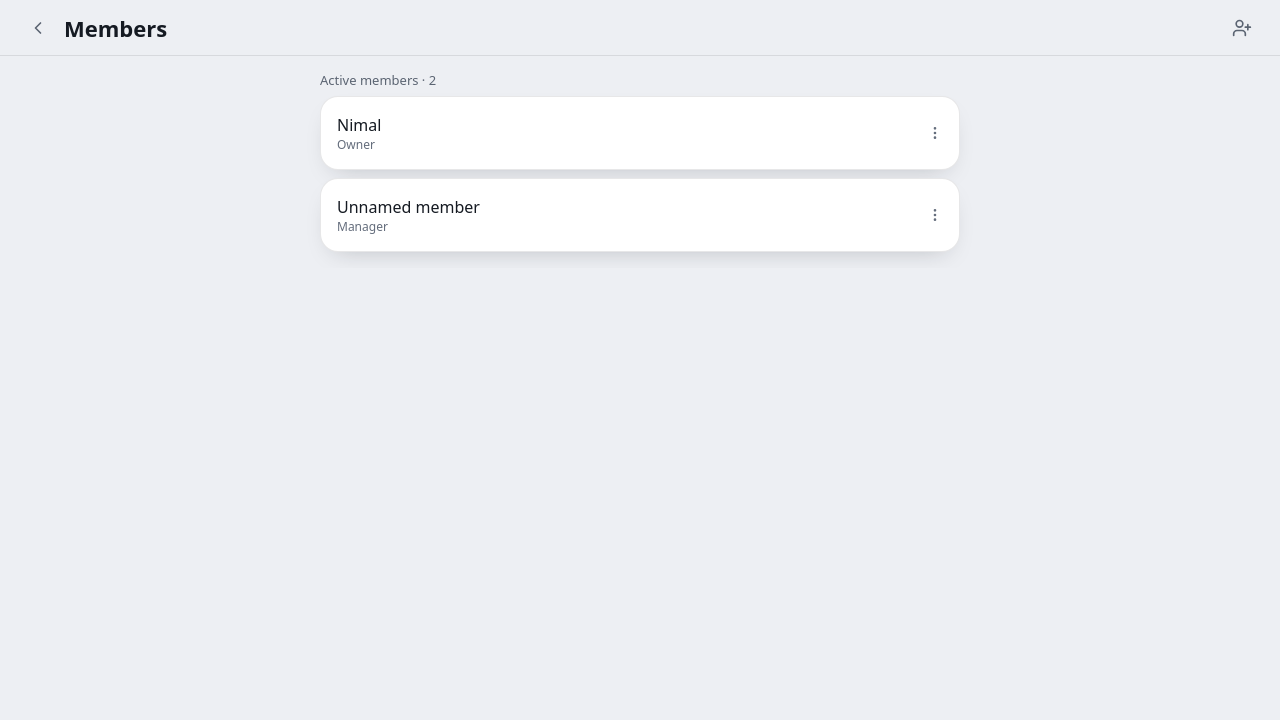
Scenario: GAP-115/GAP-1: all three roles appear in both the invite and change-role pickers, now that per-vehicle scoping (Wave 3) has lifted the manager-exclusion stopgap
Step 1. Click the button named "Invite member" → [1242, 28], box [1220,6,1264,50]
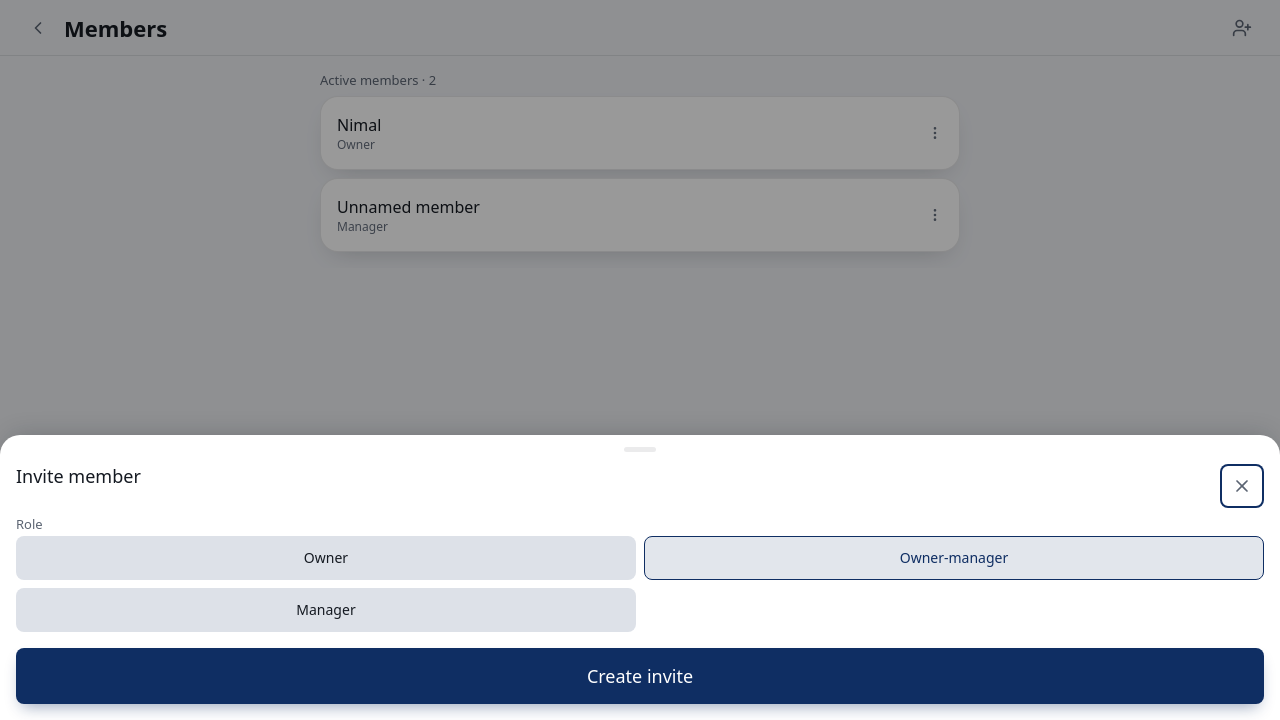
Expected: the button "Owner" is shown, [16,536,636,580]
Expected: the button "Owner-manager" is shown, [644,536,1264,580]
Expected: the button "Manager" is shown, [16,588,636,632]
Step 2. Click the button named "Close" → [1242, 486], box [1220,464,1264,508]
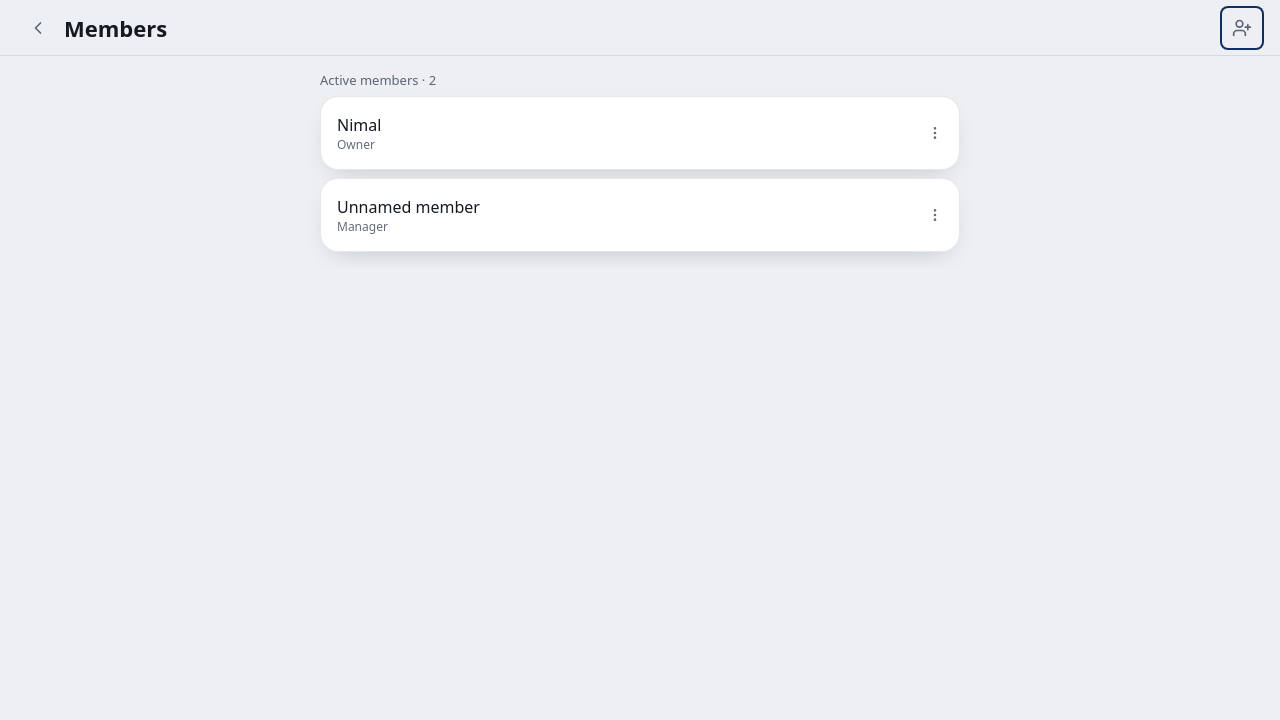
Step 3. Click the button "Nimal Owner" → [640, 133], box [320,96,960,170]
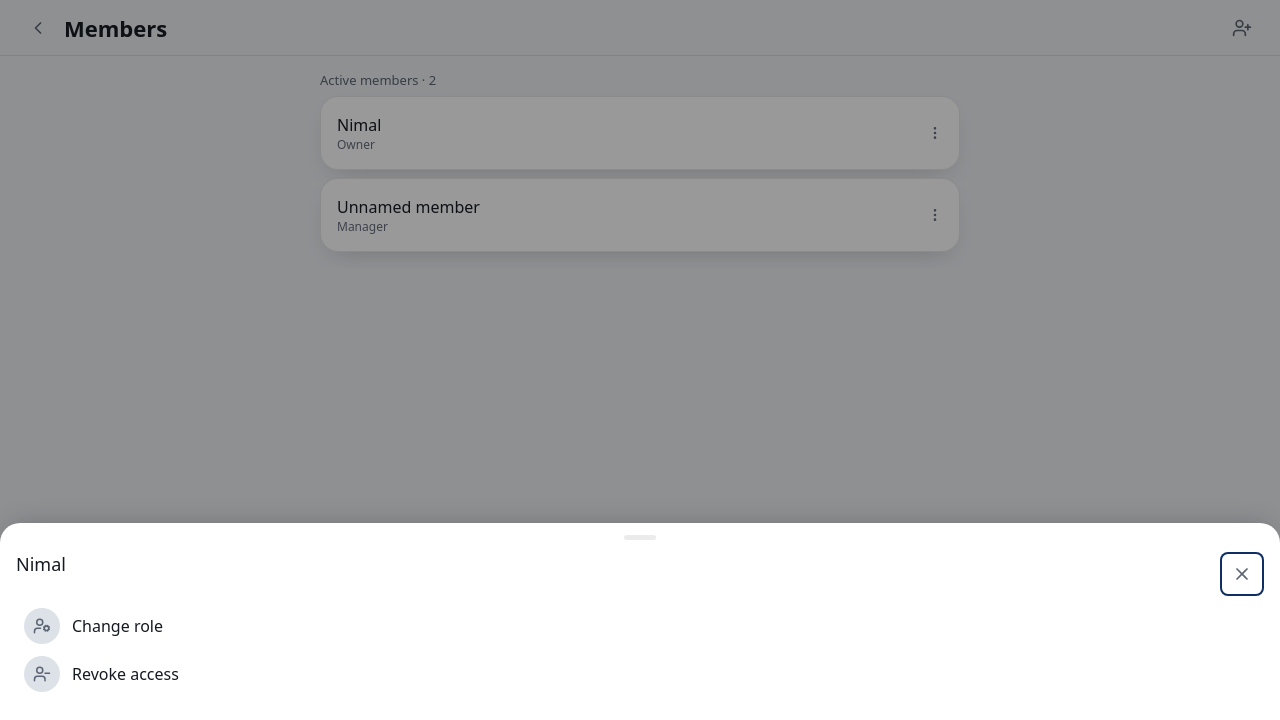
Step 4. Click the button "Change role" → [42, 626], box [16,604,1264,648]
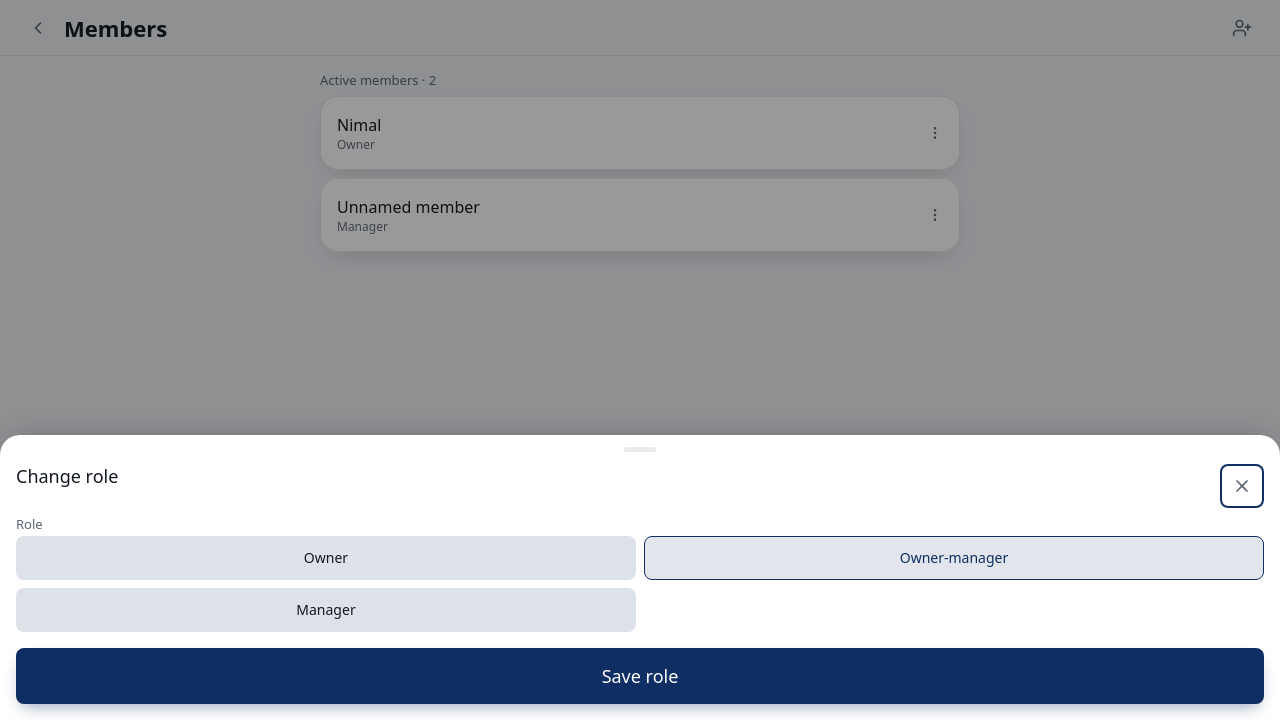
Expected: the button "Manager" is shown, [16,588,636,632]
